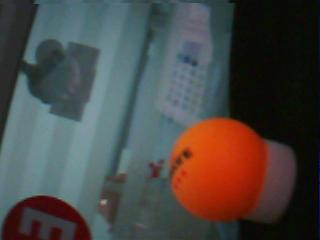oball: (168, 117, 263, 222)
